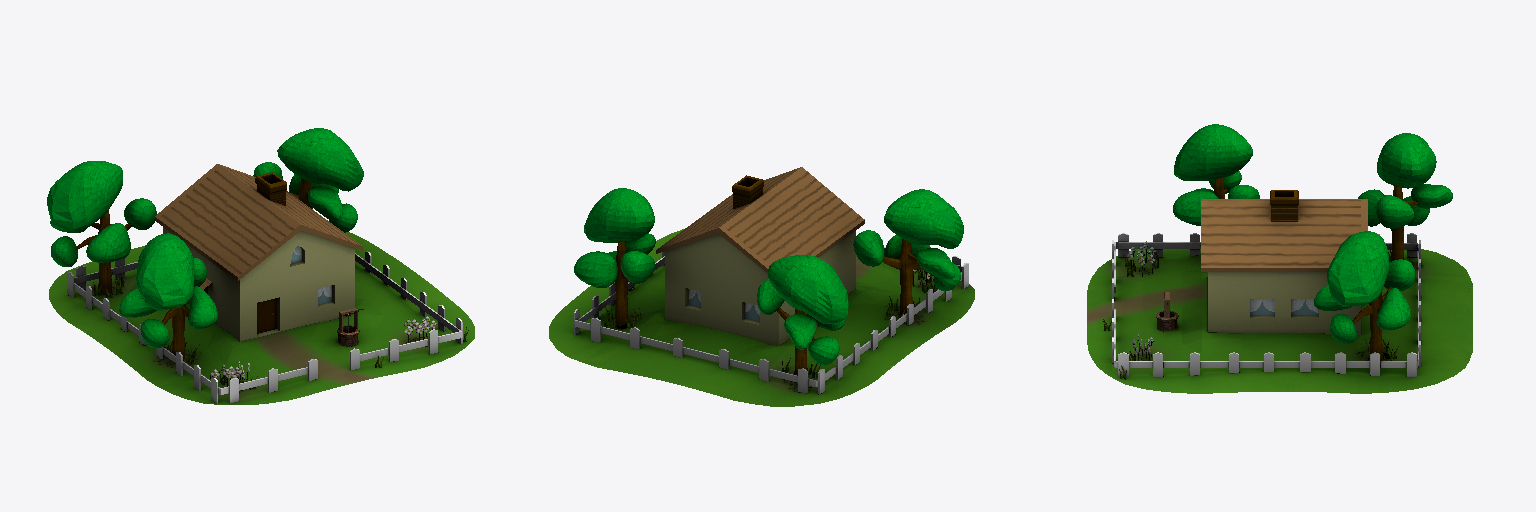
3 renders of one model, left to right at view 1: azimuth 30°, elevation 25°; view 2: azimuth 150°, elevation 25°; view 3: azimuth 270°, elevation 25°, orthographic.
Parts seen in each view (by area): view 1: cotage; view 2: cotage; view 3: cotage.
Boxes of the visible parts, box(x1,y1,x2,y2) form: cotage: box(47, 128, 474, 404); cotage: box(549, 167, 974, 406); cotage: box(1087, 124, 1472, 393).
Bounding box in the file's own units: 18.18 × 7.65 × 18.84.
Materials: 1 (1 with a texture image).